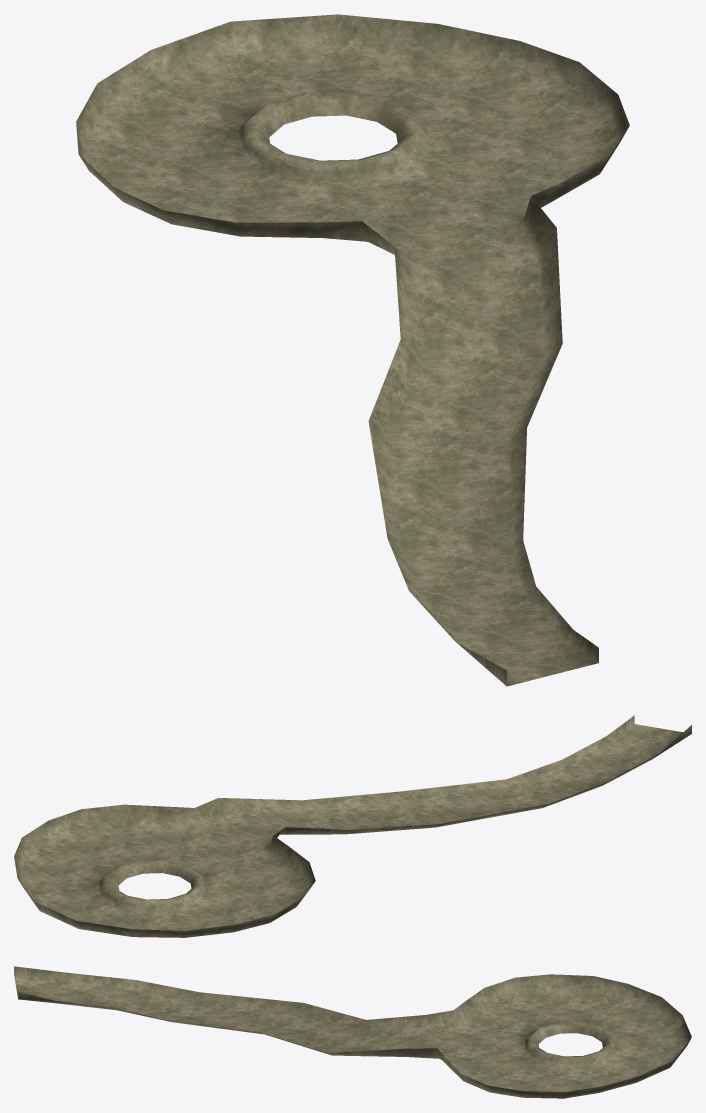
File: EKH_GROTTO_PS_GR_CAVE_FLOOR_987.fbx
The picture shows the model from 3 angles, top to bottom: view 1: azimuth 30°, elevation 25°; view 2: azimuth 150°, elevation 25°; view 3: azimuth 270°, elevation 25°; orthographic projection. The views are drawn at different scales.
Parts seen in each view (by area): view 1: EKH_GROTTO_PS_GR_CAVE_FLOOR_987; view 2: EKH_GROTTO_PS_GR_CAVE_FLOOR_987; view 3: EKH_GROTTO_PS_GR_CAVE_FLOOR_987.
Part boxes in pixels (bbox=[...]): EKH_GROTTO_PS_GR_CAVE_FLOOR_987: bbox=[76, 14, 629, 686]; EKH_GROTTO_PS_GR_CAVE_FLOOR_987: bbox=[14, 715, 691, 937]; EKH_GROTTO_PS_GR_CAVE_FLOOR_987: bbox=[14, 966, 691, 1098].
Bounding box in the file's own units: 130199 × 18315 × 245156.
1 material, 1 textured.
